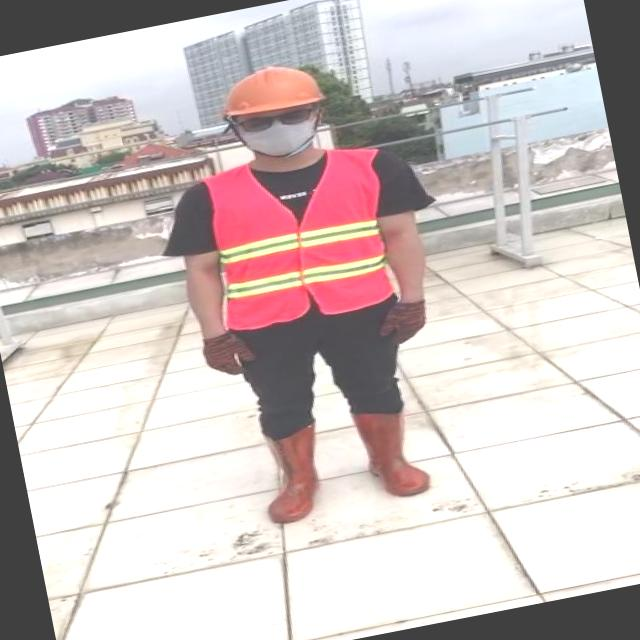boots: (350, 398, 437, 506), (251, 426, 329, 526)
gloves: (343, 270, 448, 362), (178, 296, 256, 383)
helmet: (208, 54, 332, 125)
vest: (198, 142, 403, 332)
